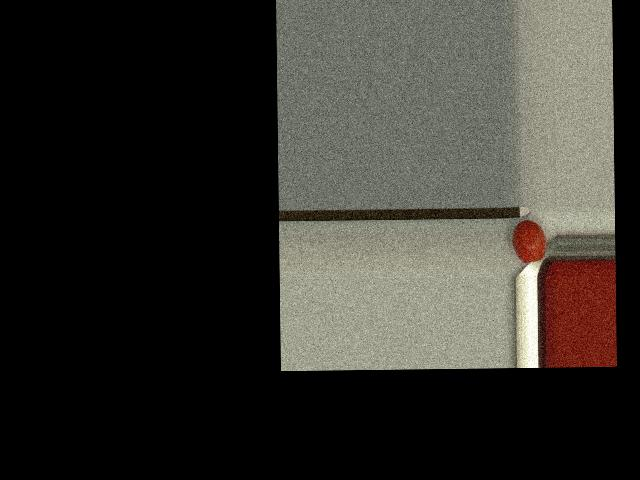tomato: (511, 220, 546, 263)
